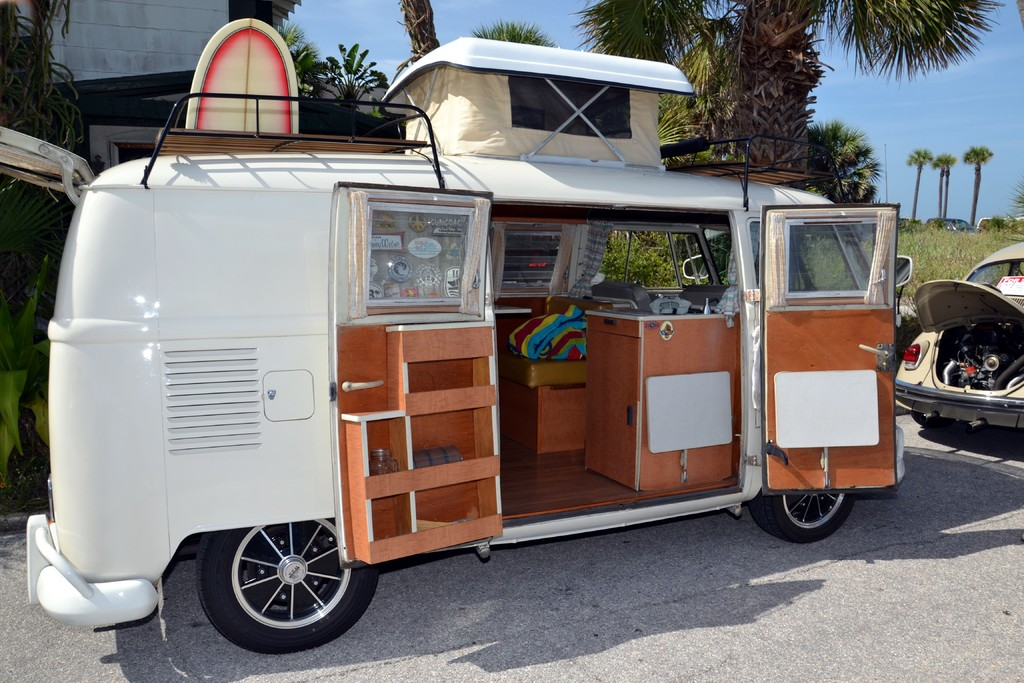cabinet door: (593, 331, 641, 481)
door: (327, 196, 487, 535), (770, 212, 899, 492)
handle: (858, 339, 897, 362), (343, 374, 383, 391)
